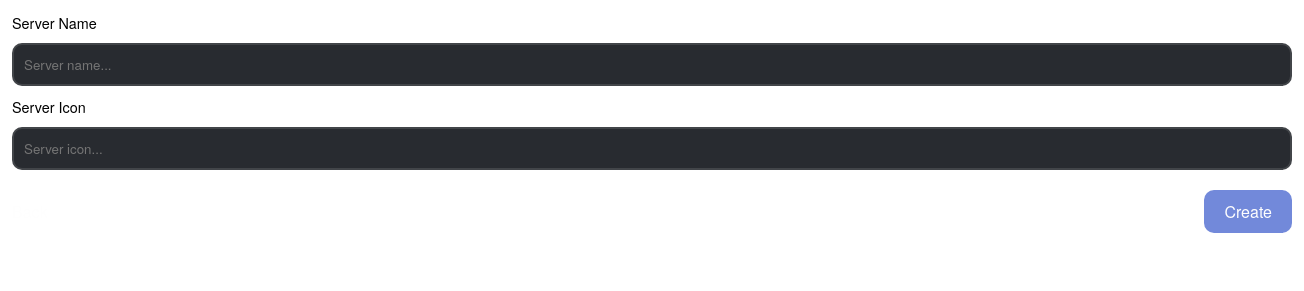
Test case: CreateServerForm › shows error if guild name is empty
The width and height of the screenshot is (1304, 291).
Click the button "Create" at (1248, 212), box x1=1204 y1=190 x2=1292 y2=233
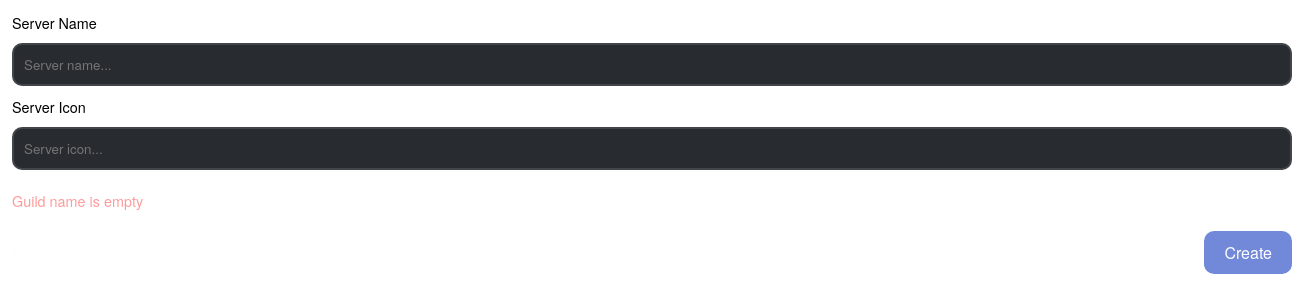
Expected: the message reads "Guild name is empty", x1=12 y1=190 x2=143 y2=211
